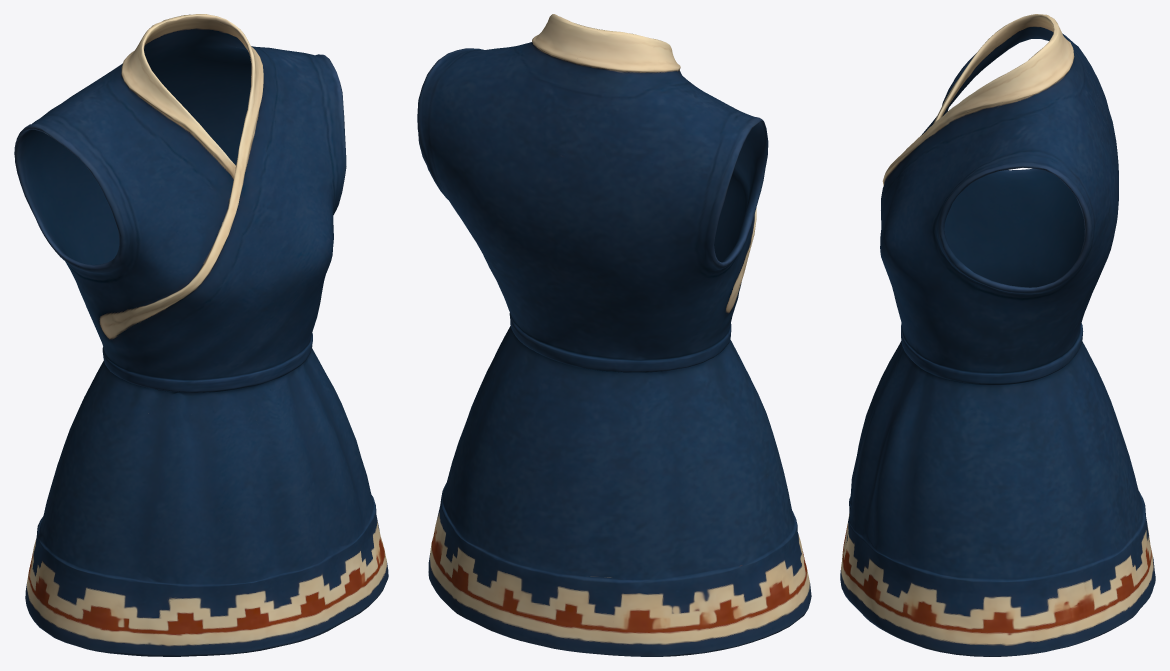
The model's file is Meshy_AI_Cerulean_Wrap_Tunic_1112092615_texture.glb.
3 views of the same model, side by side, from view 1: azimuth 30°, elevation 25°; view 2: azimuth 150°, elevation 25°; view 3: azimuth 270°, elevation 25° (orthographic). The views are drawn at different scales.
Parts seen in each view (by area): view 1: geometry_0; view 2: geometry_0; view 3: geometry_0.
Part boxes in pixels (box(x1,y1,x2,y2)): geometry_0: box(14, 14, 388, 656); geometry_0: box(417, 14, 811, 656); geometry_0: box(840, 14, 1155, 656).
Bounding box in the file's own units: 0.628 × 1 × 0.5224.
1 material, 1 textured.
